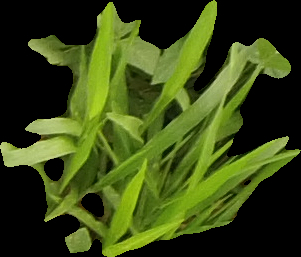grass: (1, 1, 299, 256)
